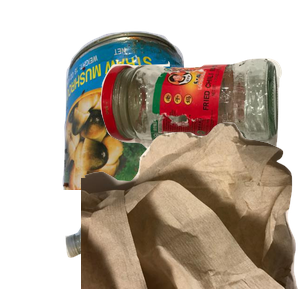glass: (98, 56, 300, 201)
metal: (60, 28, 300, 208)
plastic: (63, 170, 278, 300)
trash: (81, 120, 300, 300)
